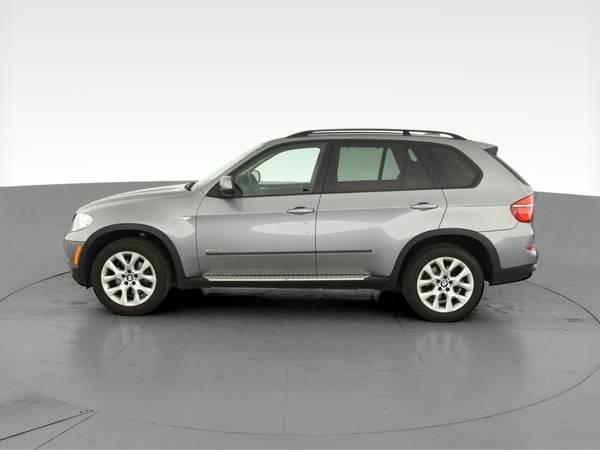Front_Bumper: (63, 226, 91, 286)
Front_Fender: (78, 187, 204, 284)
Front_Left_Door: (193, 192, 319, 283)
Front_Left_Window: (208, 141, 338, 196)
Left_Headlight: (71, 207, 96, 228)
Left_Taillight: (510, 194, 535, 225)
Rear_Bumper: (470, 221, 537, 283)
Rear_Fender: (414, 143, 530, 235)
Rear_Left_Door: (311, 187, 444, 286)
Rear_Left_Window: (323, 140, 443, 196)
Roof: (202, 128, 520, 196)
Wheel: (403, 243, 486, 325), (88, 241, 168, 318)
